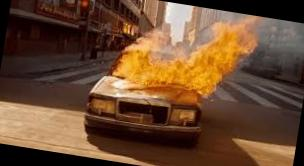Fire: (112, 8, 260, 108)
Smoke: (247, 15, 304, 58)
